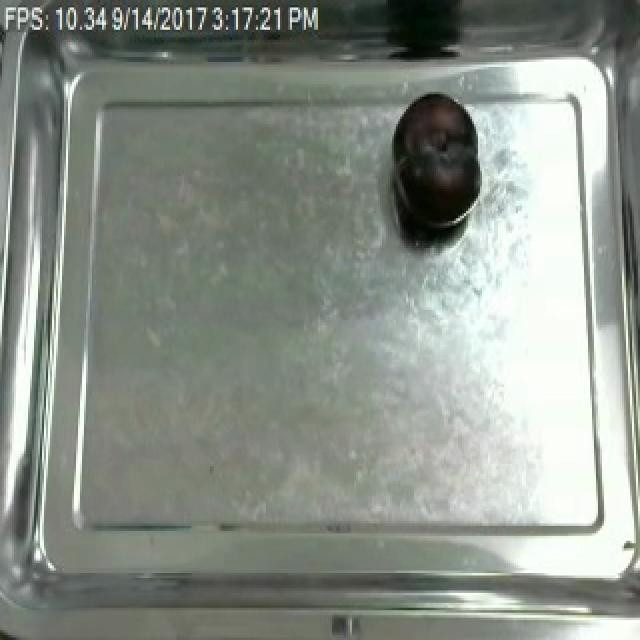Fruit: (386, 87, 486, 240)
